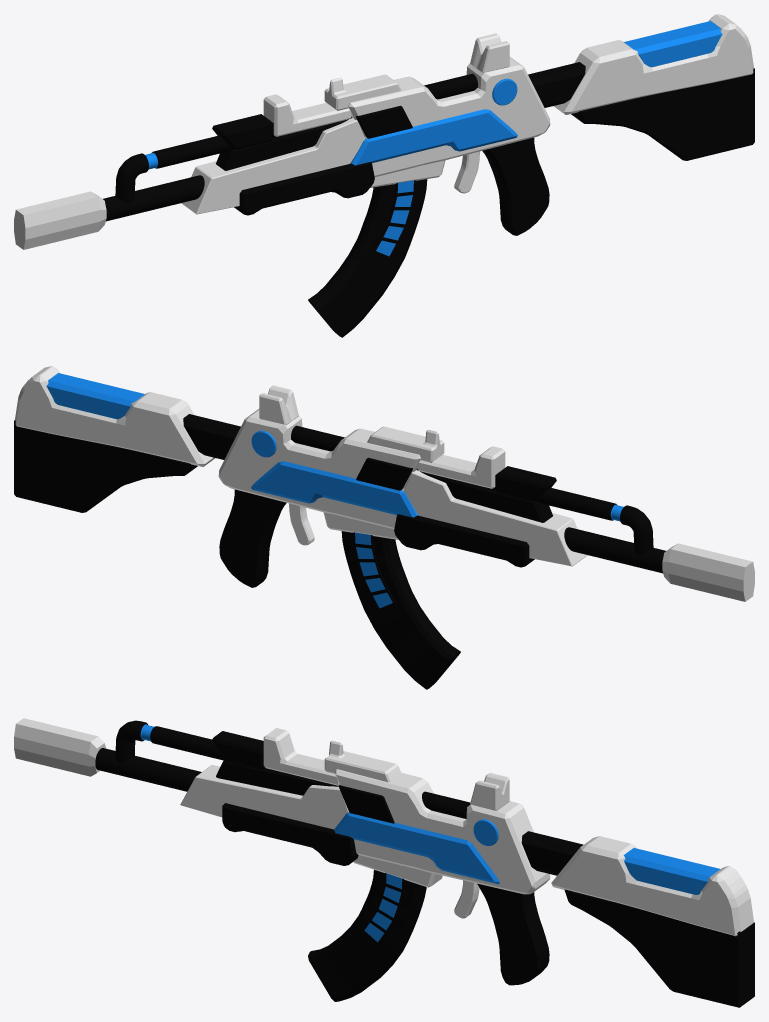
The picture shows the model from 3 angles, top to bottom: view 1: azimuth 30°, elevation 25°; view 2: azimuth 150°, elevation 25°; view 3: azimuth 330°, elevation 25°; orthographic projection.
Parts seen in each view (by area): view 1: Cube.006, Cube.004, Cube, Cube.016, Cube.001, Cube.018, Cube.007, Cube.012, Cube.011, Cylinder, Cube.005, Cylinder.001 (+11 smaller); view 2: Cube.006, Cube.004, Cube, Cube.016, Cube.001, Cube.018, Cube.007, Cube.012, Cube.011, Cylinder, Cube.005, Cylinder.001 (+11 smaller); view 3: Cube.006, Cube, Cube.004, Cube.016, Cube.001, Cube.007, Cube.018, Cube.012, Cube.011, Cylinder, Cube.005, Cylinder.001 (+11 smaller).
Part boxes in pixels (x1,y1,x2,y2): Cube.006: (571,68,754,160); Cube.004: (553,14,753,114); Cube: (348,57,550,176); Cube.016: (308,179,427,337); Cube.001: (181,118,364,214); Cube.018: (351,109,517,165); Cube.007: (482,137,549,235); Cube.012: (14,191,106,249); Cube.011: (234,162,374,215); Cylinder: (115,73,477,203); Cube.005: (624,21,722,67); Cylinder.001: (103,175,204,221); Cube.006: (14,420,197,512); Cube.004: (15,366,215,466); Cube: (218,409,420,528); Cube.016: (341,531,460,689); Cube.001: (404,470,587,566); Cube.018: (251,461,417,517); Cube.007: (219,489,286,587); Cube.012: (662,543,754,601); Cube.011: (394,514,534,567); Cylinder: (291,425,653,555); Cube.005: (46,373,144,419); Cylinder.001: (564,527,665,573); Cube.006: (564,889,754,1007); Cube: (334,769,550,894); Cube.004: (551,836,753,936); Cube.016: (308,870,426,1001); Cube.001: (180,765,348,829); Cube.007: (477,883,549,985); Cube.018: (334,812,499,884); Cube.012: (14,718,105,776); Cube.011: (222,803,358,865); Cylinder: (115,720,470,818); Cube.005: (623,848,720,894); Cylinder.001: (95,748,201,791).
Size of the model in its own units: 942 by 320 by 47.98.
